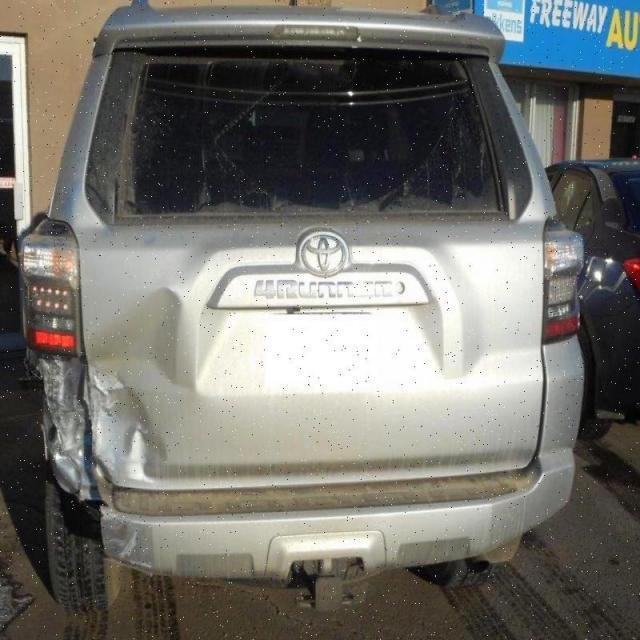dent: (39, 363, 165, 507), (86, 277, 187, 398)
